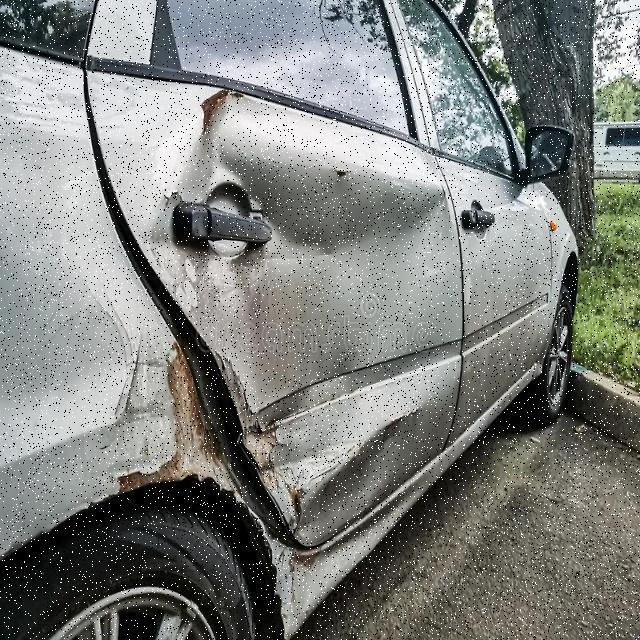RunningBoard-Dent: (266, 517, 432, 639)
doorouter-dent: (171, 78, 460, 477)
quaterpanel-dent: (0, 338, 192, 639)
